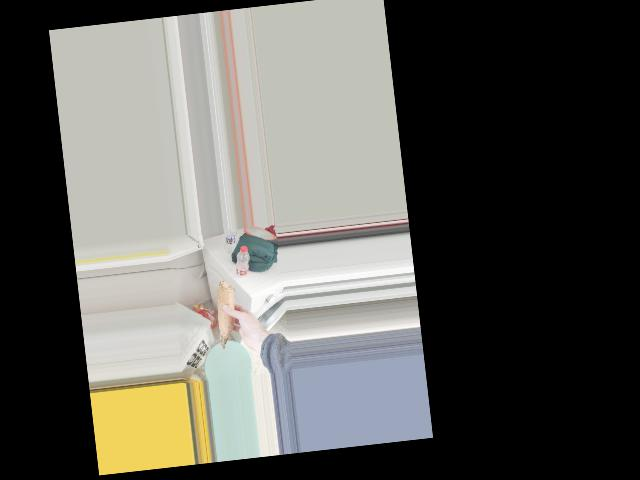sweet_potato: (214, 284, 239, 348)
